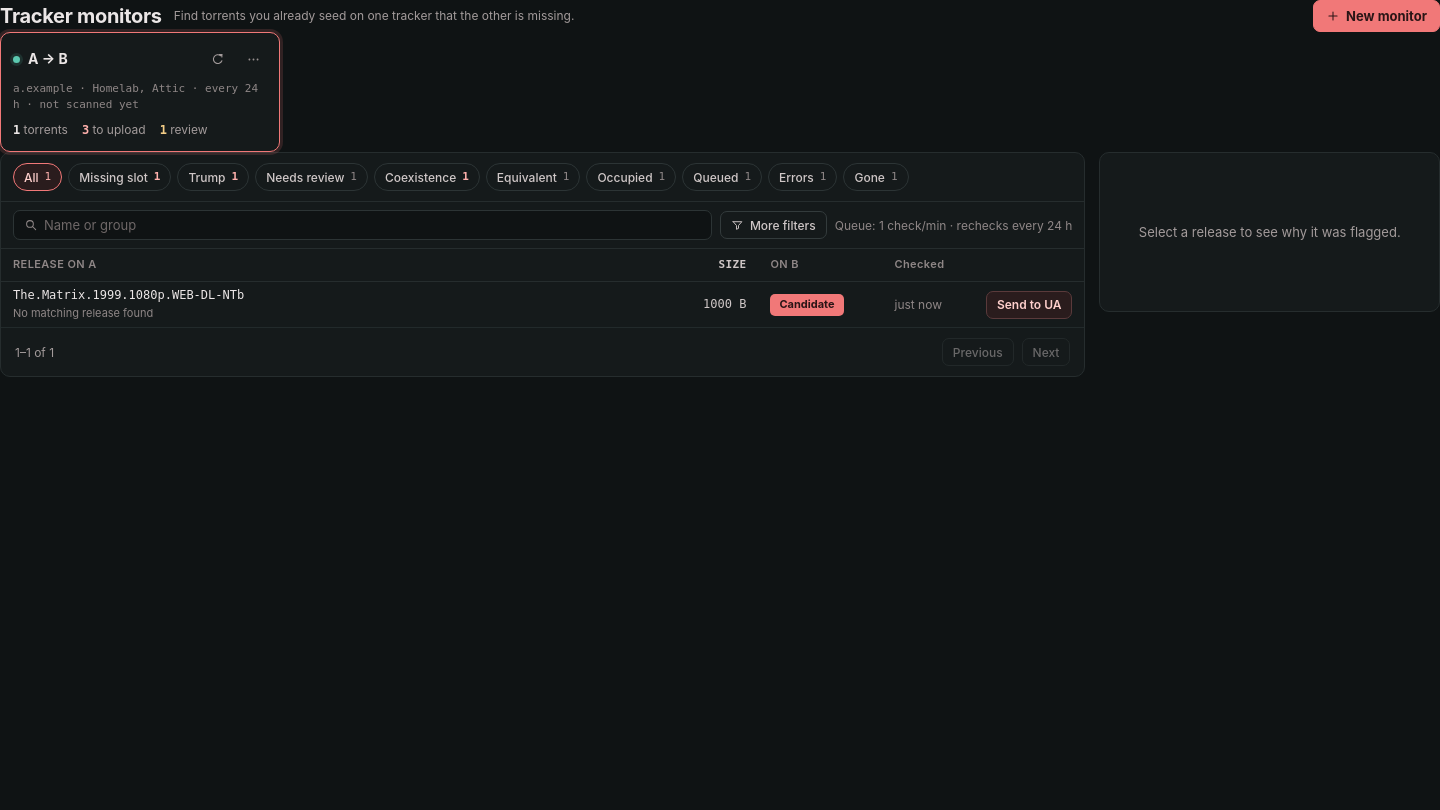
Test: drops a kept offline instance and shows the offline error the save returns
Press ArrowDown in the button named "Monitor options", box [239,45,267,73]
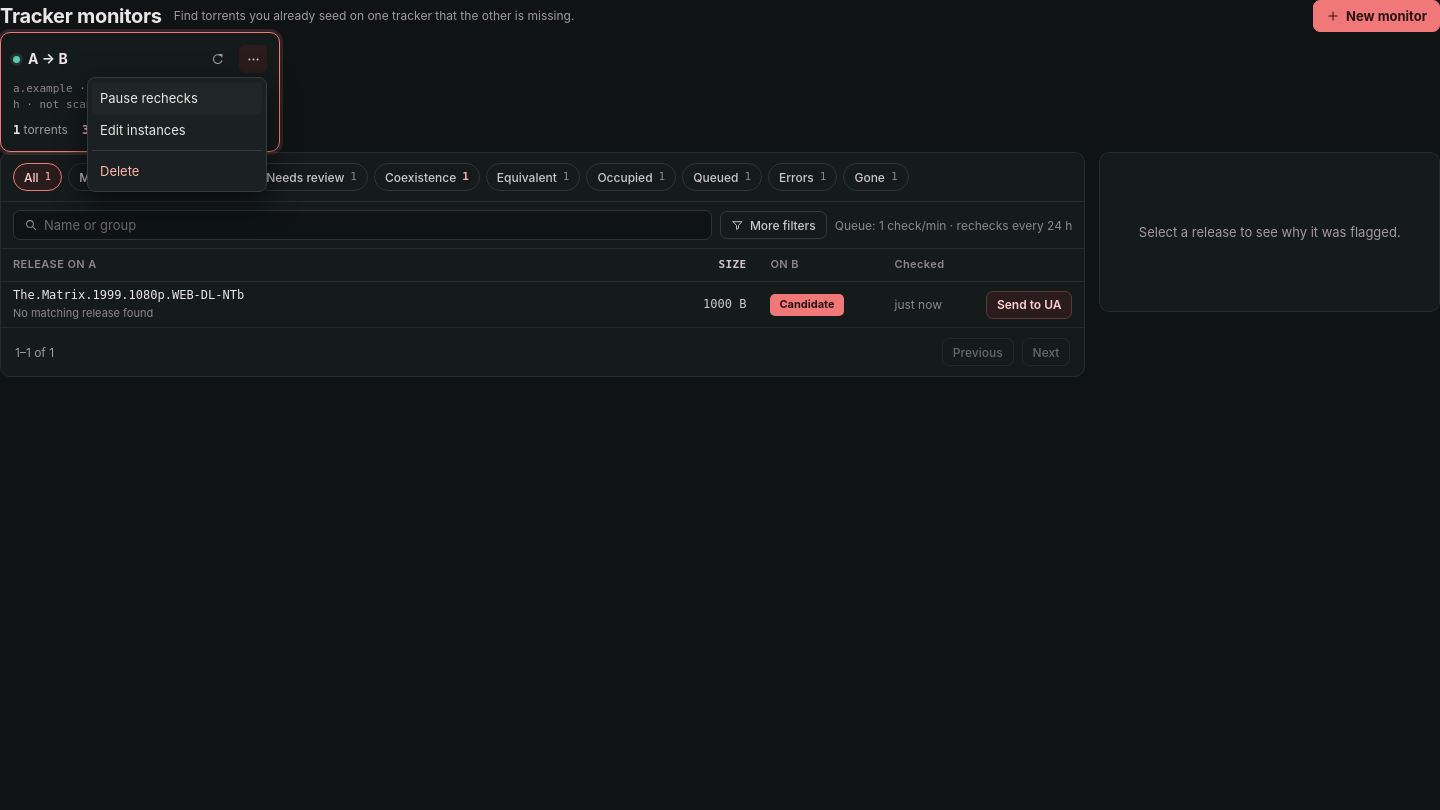
Click the menu item "Edit instances" at (143, 130), box [100,122,186,138]
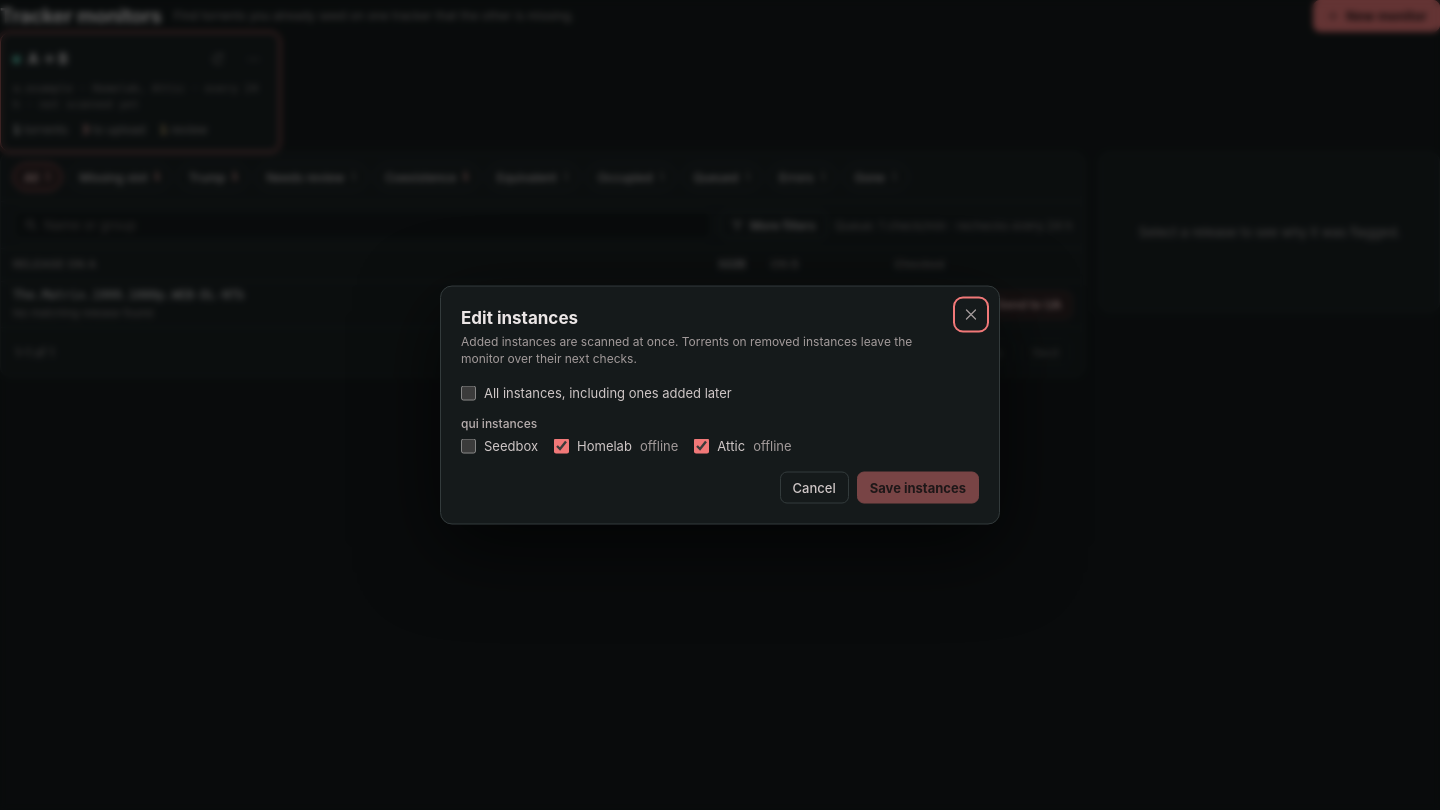
Expected: the checkbox labelled "Homelab offline" is checked, [554,439,569,454]
Expected: the checkbox labelled "Attic offline" is checked
Click the checkbox labelled "Attic offline" at (702, 446), box [694,439,709,454]
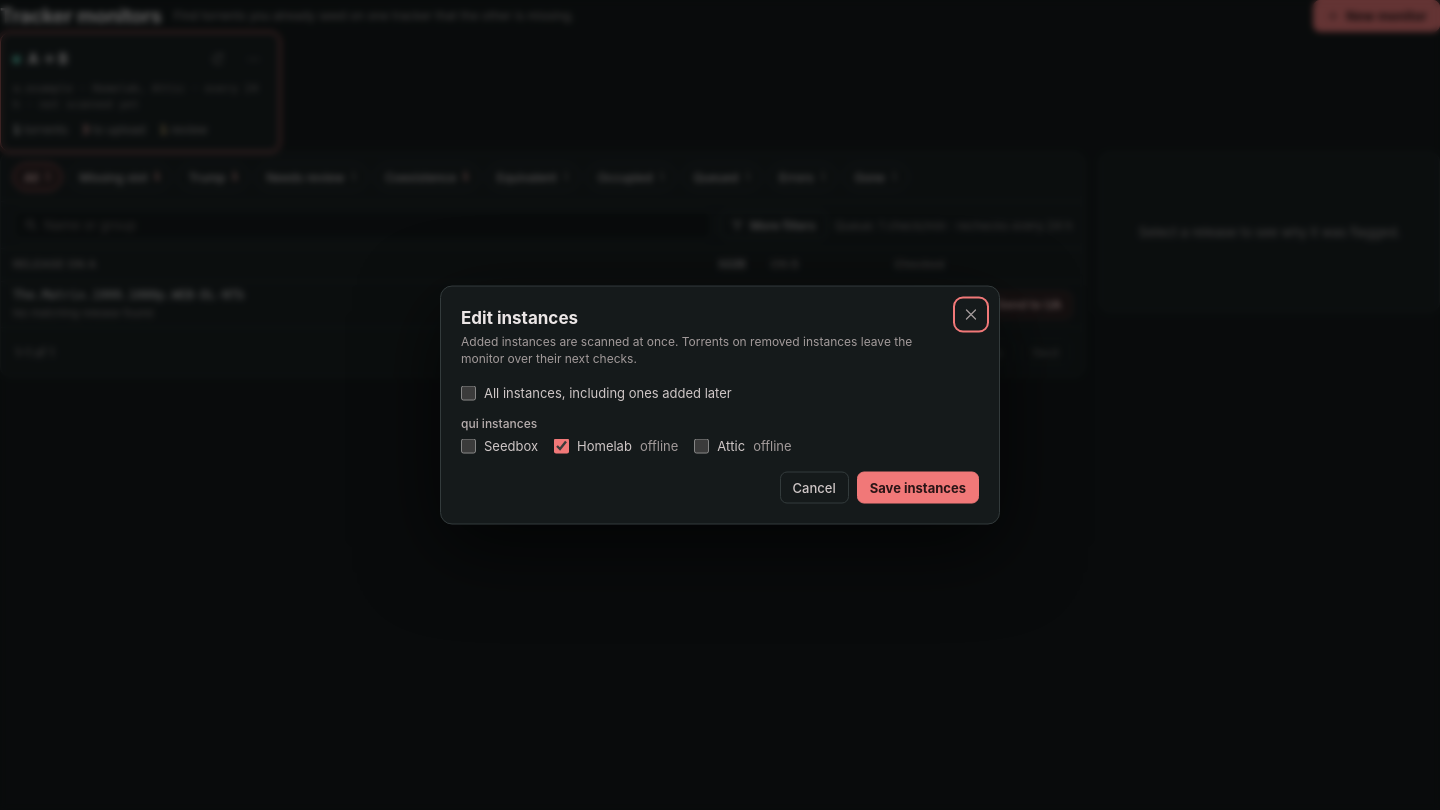
Expected: the checkbox labelled "Attic offline" is not checked, [694,439,709,454]
Click the button "Save instances" at (918, 488), box [857,472,979,504]
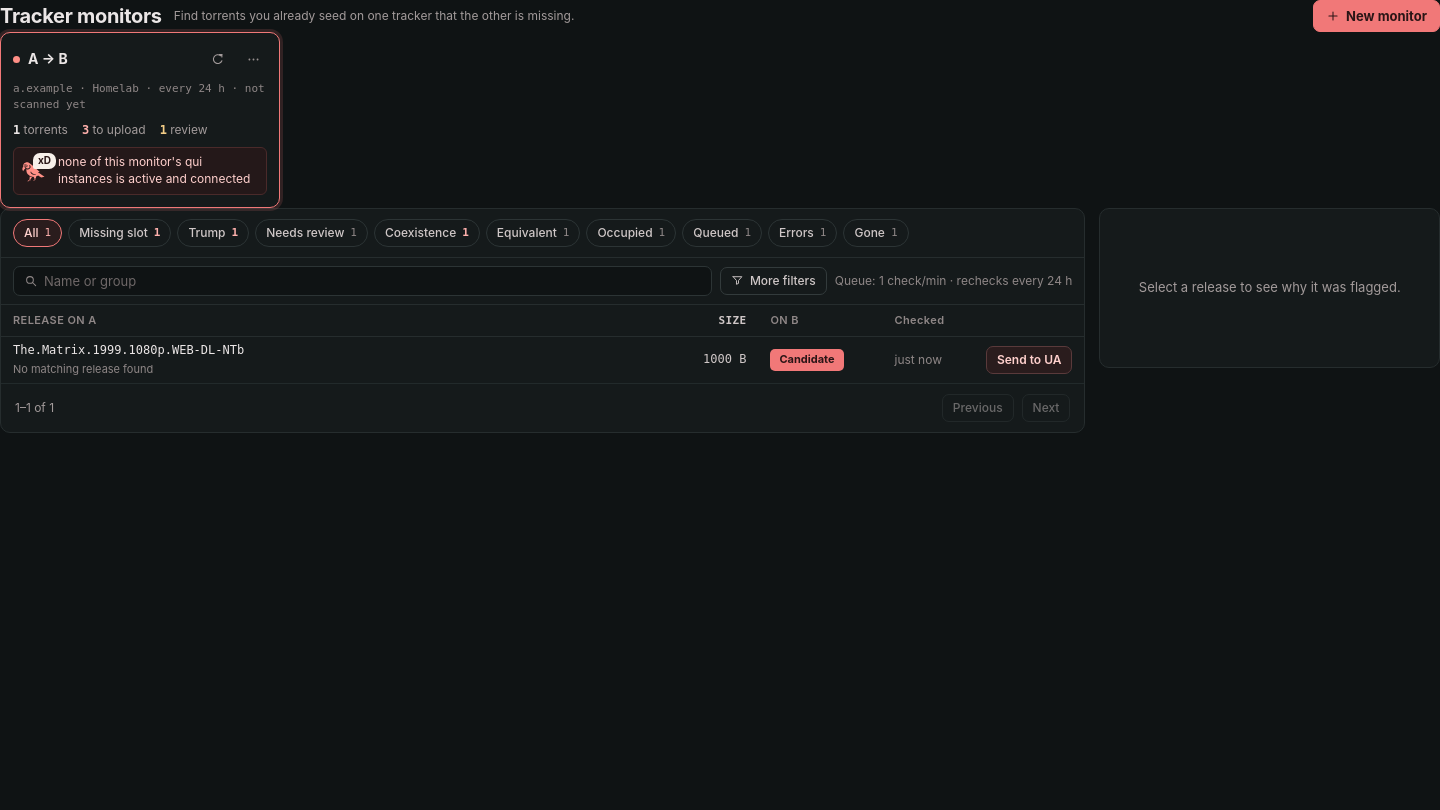
Expected: the dialog is gone
Expected: the text "none of this monitor's qui instances is active and connected" is shown, [58,154,258,188]
